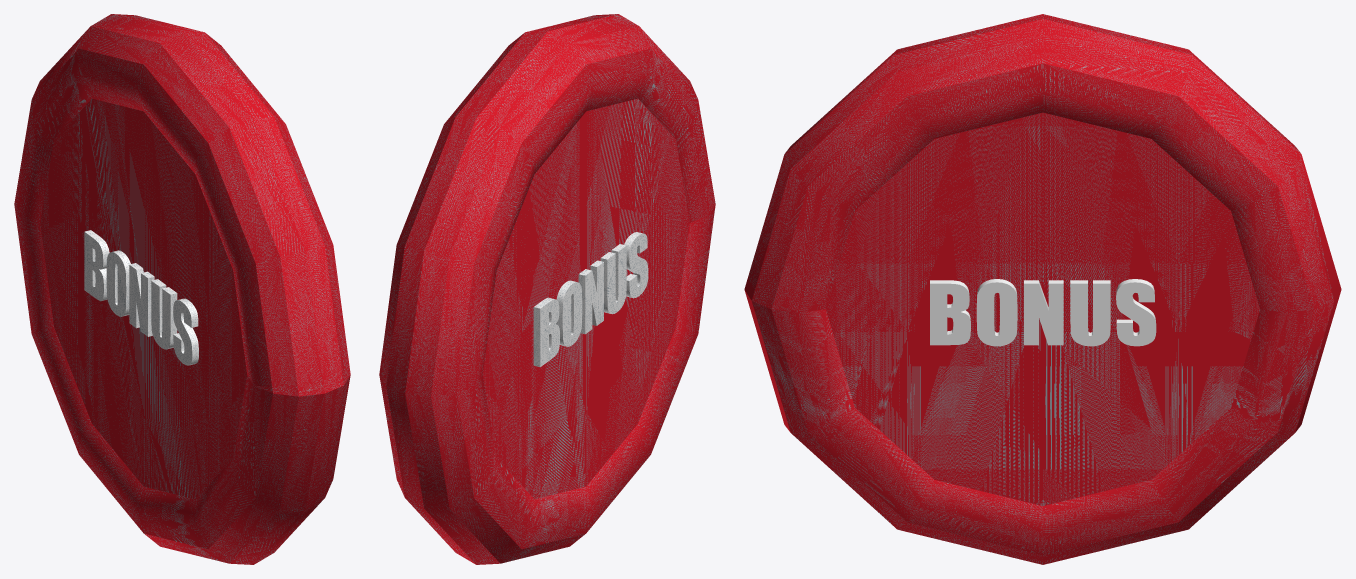
File: Origin_bonus.dae
3 views of the same model, side by side, from view 1: azimuth 30°, elevation 25°; view 2: azimuth 150°, elevation 25°; view 3: azimuth 270°, elevation 25° (orthographic). The views are drawn at different scales.
Visible parts, largest first — view 1: SketchUp, BONUS_1 (×5); view 2: SketchUp, BONUS_1 (×5); view 3: SketchUp, BONUS_1 (×5).
Part boxes in pixels (x1,y1,x2,y2): SketchUp: (14,14,350,564); BONUS_1 (×5): (84,230,198,365); SketchUp: (379,14,715,564); BONUS_1 (×5): (533,232,648,367); SketchUp: (744,14,1341,564); BONUS_1 (×5): (930,279,1156,346).
Bounding box in the file's own units: 16 × 86.61 × 86.61.
